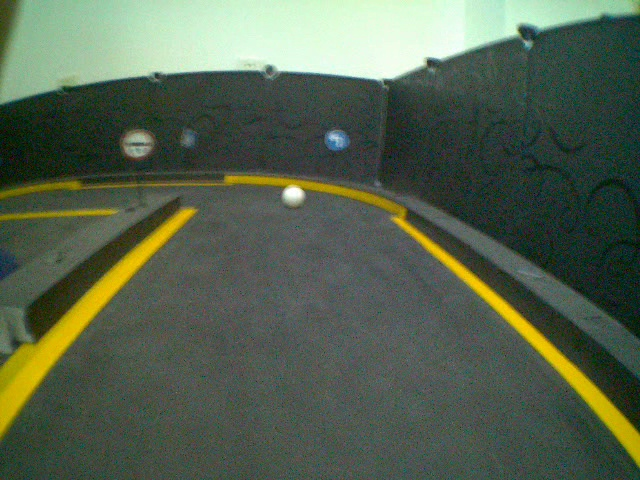ball: (280, 182, 308, 209)
